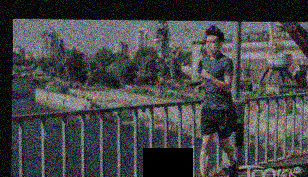with_mask: (203, 36, 218, 53)
